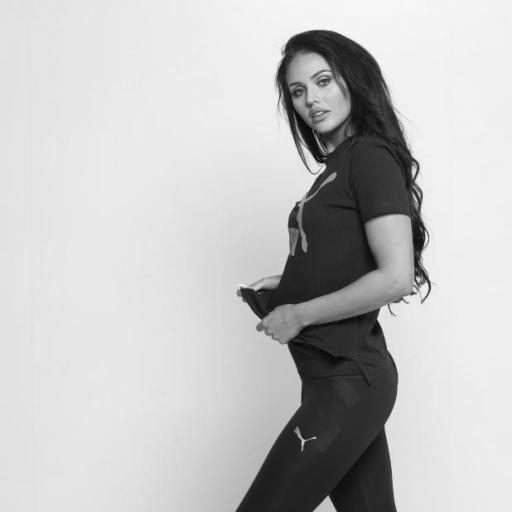Puma: (289, 422, 320, 454)
